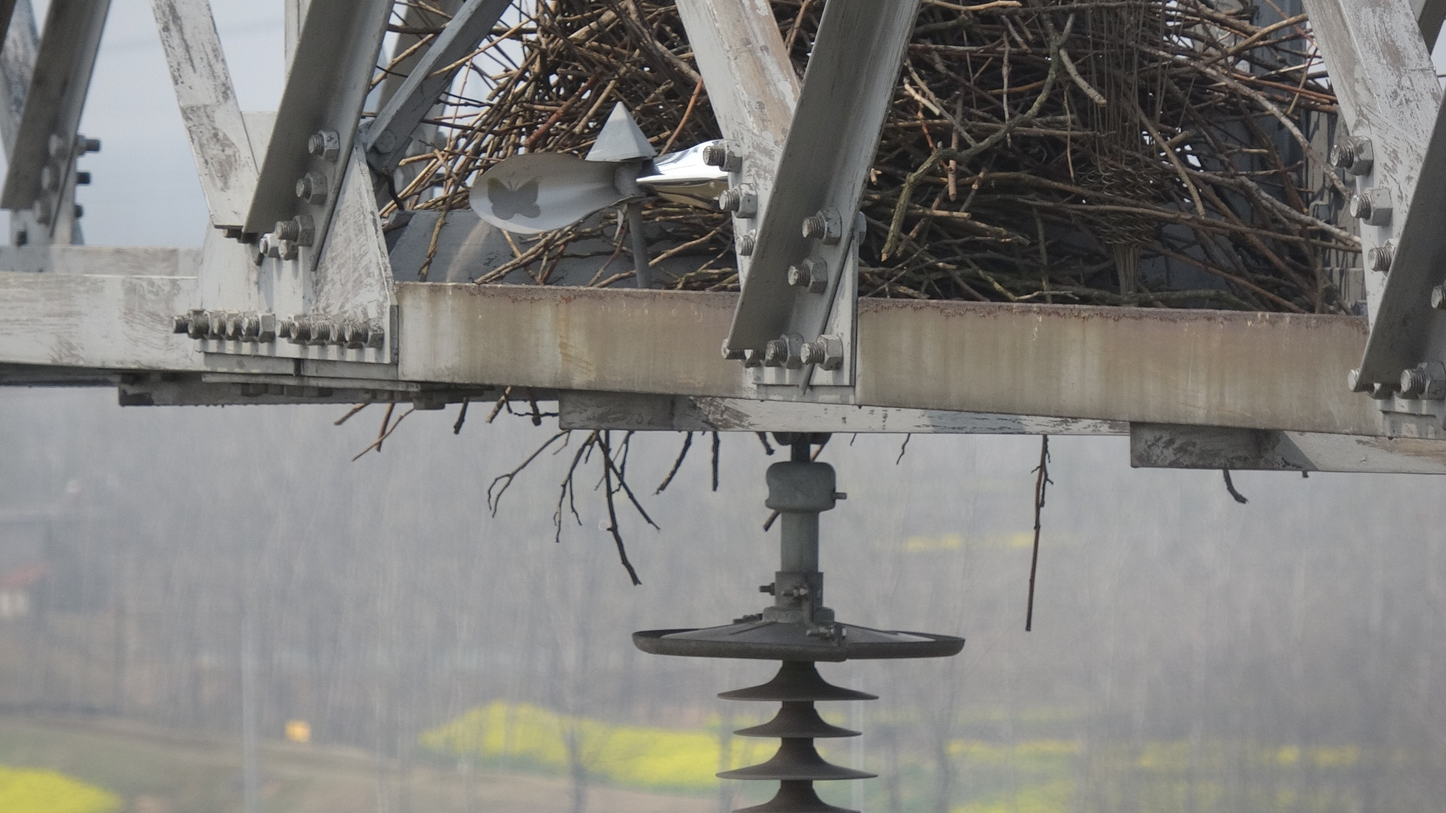insulator: (712, 677, 886, 813)
